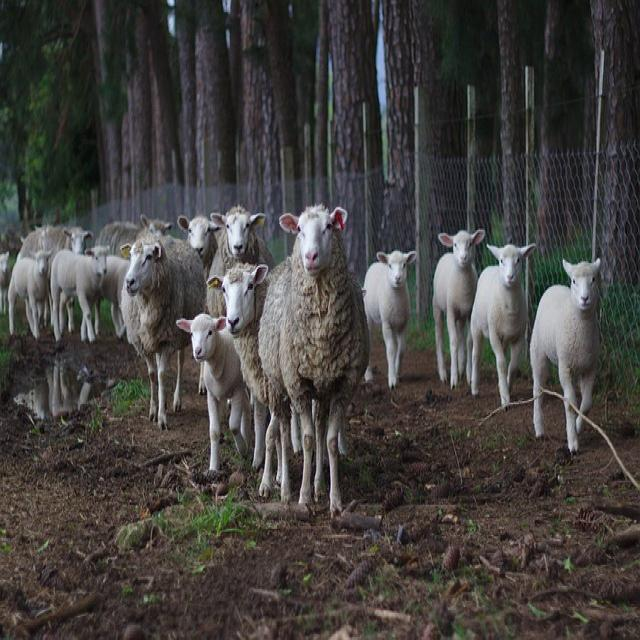goat: (260, 205, 369, 514), (121, 237, 206, 429), (176, 314, 250, 470), (530, 259, 600, 414), (471, 244, 534, 407), (209, 263, 269, 407), (432, 229, 485, 388), (364, 252, 416, 388), (51, 246, 108, 341), (210, 205, 273, 275), (8, 250, 51, 339), (19, 225, 92, 262), (178, 216, 219, 277), (566, 404, 582, 454), (209, 293, 224, 315)
